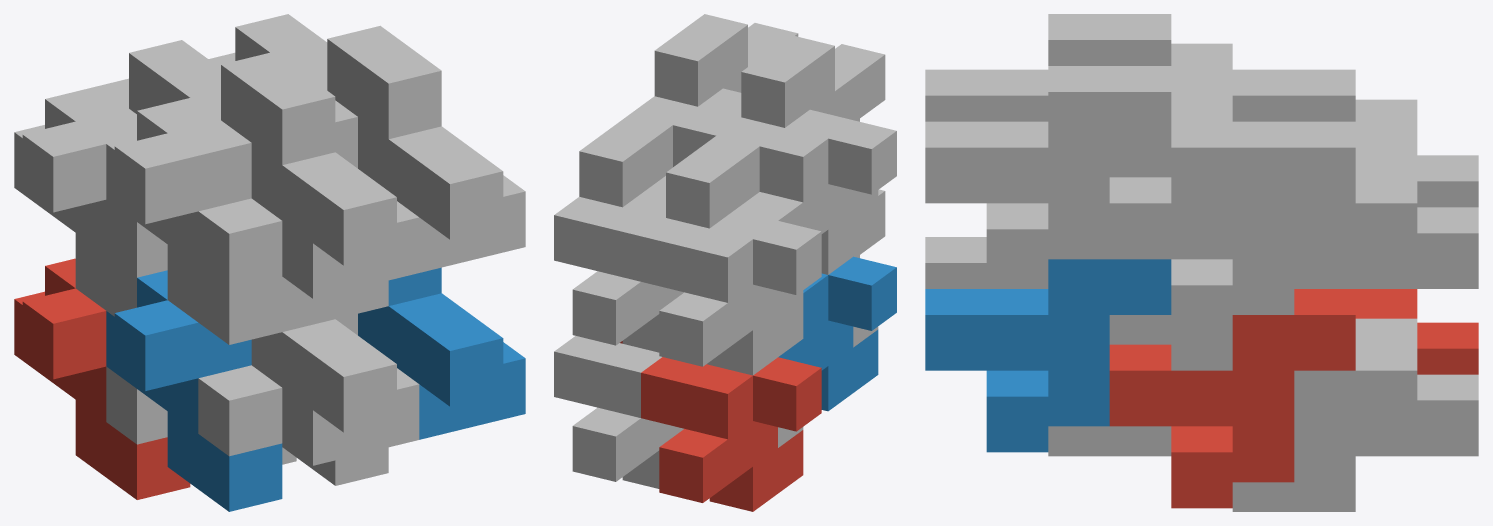
Rendered from tiling.obj.
The picture shows the model from 3 angles, left to right: view 1: azimuth 30°, elevation 25°; view 2: azimuth 150°, elevation 25°; view 3: azimuth 270°, elevation 25°; orthographic projection. The views are drawn at different scales.
Visible parts, largest first — view 1: copy_2_domain_4, copy_2_domain_2, copy_2_domain_8, copy_1_domain_4, copy_1_domain_2, copy_2_domain_6, copy_1_domain_3, copy_1_domain_1, copy_2_domain_3, copy_2_domain_7, copy_2_domain_1, copy_1_domain_8 (+1 smaller); view 2: copy_1_domain_3, copy_1_domain_1, copy_1_domain_4, copy_1_domain_7, copy_1_domain_5, copy_2_domain_4, copy_1_domain_2, copy_2_domain_8, copy_2_domain_3, copy_2_domain_7, copy_1_domain_8, copy_2_domain_2; view 3: copy_2_domain_8, copy_2_domain_7, copy_2_domain_5, copy_2_domain_6, copy_1_domain_5, copy_1_domain_7, copy_2_domain_4, copy_1_domain_8, copy_1_domain_6, copy_1_domain_3, copy_2_domain_3, copy_1_domain_1 (+2 smaller).
Boxes of the visible parts, bbox=[...] form: copy_2_domain_4: bbox=[198, 52, 419, 298]; copy_2_domain_2: bbox=[198, 277, 419, 465]; copy_2_domain_8: bbox=[327, 25, 525, 272]; copy_1_domain_4: bbox=[106, 90, 282, 344]; copy_1_domain_2: bbox=[106, 270, 282, 511]; copy_2_domain_6: bbox=[358, 267, 525, 439]; copy_1_domain_3: bbox=[14, 78, 136, 316]; copy_1_domain_1: bbox=[14, 258, 190, 499]; copy_2_domain_3: bbox=[106, 40, 220, 277]; copy_2_domain_7: bbox=[235, 14, 327, 70]; copy_2_domain_1: bbox=[106, 366, 167, 444]; copy_1_domain_8: bbox=[301, 64, 388, 318]; copy_1_domain_3: bbox=[641, 210, 821, 375]; copy_1_domain_1: bbox=[641, 357, 821, 511]; copy_1_domain_4: bbox=[716, 109, 896, 274]; copy_1_domain_7: bbox=[554, 189, 683, 352]; copy_1_domain_5: bbox=[554, 336, 683, 488]; copy_2_domain_4: bbox=[741, 35, 885, 210]; copy_1_domain_2: bbox=[778, 256, 896, 411]; copy_2_domain_8: bbox=[654, 14, 798, 106]; copy_2_domain_3: bbox=[666, 136, 803, 311]; copy_2_domain_7: bbox=[579, 114, 672, 207]; copy_1_domain_8: bbox=[629, 88, 741, 193]; copy_2_domain_2: bbox=[853, 189, 885, 347]; copy_2_domain_8: bbox=[925, 66, 1171, 285]; copy_2_domain_7: bbox=[1109, 121, 1355, 340]; copy_2_domain_5: bbox=[1109, 289, 1355, 508]; copy_2_domain_6: bbox=[925, 259, 1171, 452]; copy_1_domain_5: bbox=[1232, 318, 1478, 511]; copy_1_domain_7: bbox=[1294, 151, 1478, 288]; copy_2_domain_4: bbox=[925, 14, 1171, 121]; copy_1_domain_8: bbox=[1109, 95, 1232, 203]; copy_1_domain_6: bbox=[1048, 315, 1232, 456]; copy_1_domain_3: bbox=[1355, 99, 1478, 207]; copy_2_domain_3: bbox=[1232, 69, 1355, 121]; copy_1_domain_1: bbox=[1355, 289, 1478, 374].
Size of the model in its own units: 6 by 8 by 9.
